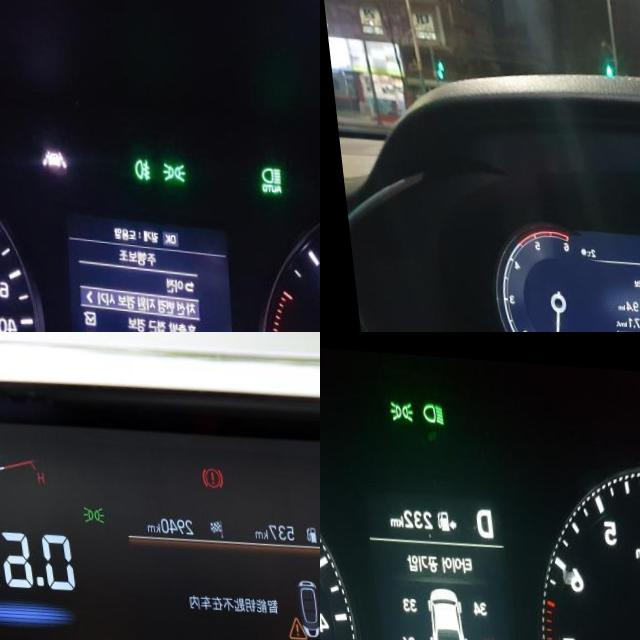Central Warning lamp: (278, 610, 299, 635)
FrontFogLight: (129, 151, 149, 176)
LaneCenteringOff: (37, 144, 64, 165)
Low beam: (421, 396, 445, 420)
SideLamp: (158, 153, 184, 179), (389, 395, 413, 417), (76, 501, 100, 522)
